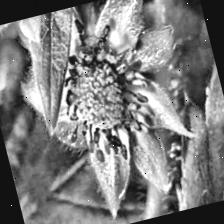Blossom Blight: (37, 4, 168, 174)
